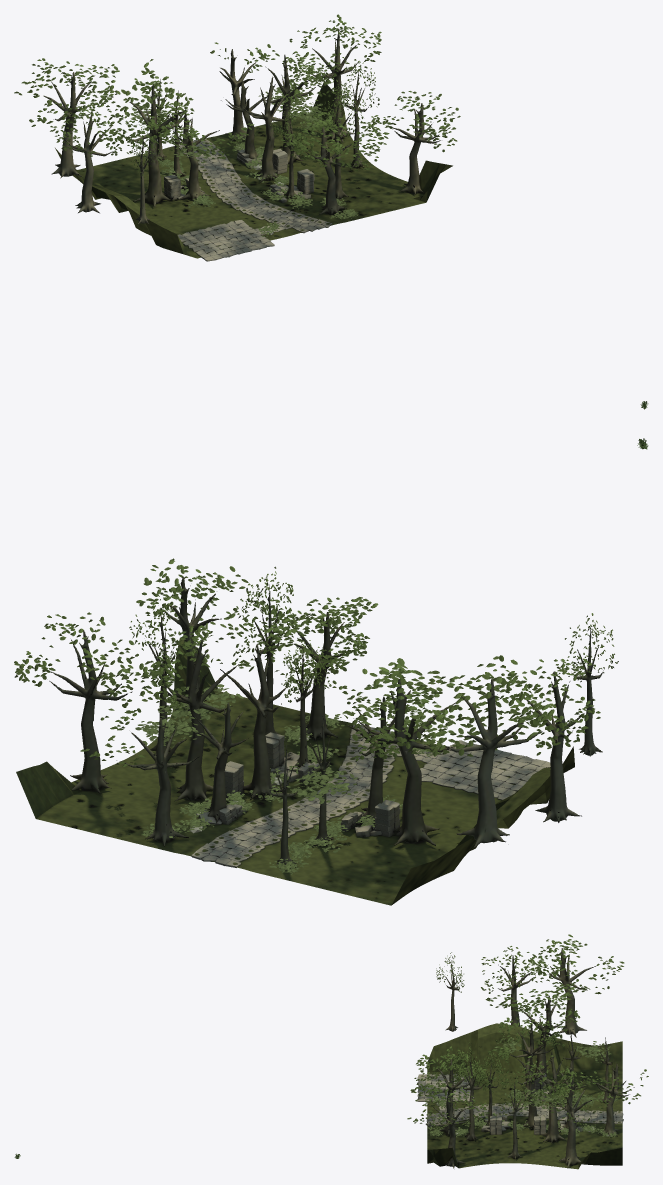
File: forest-canopy.glb
3 views of the same model, one above another, from view 1: azimuth 30°, elevation 25°; view 2: azimuth 150°, elevation 25°; view 3: azimuth 270°, elevation 25° (orthographic). The views are drawn at different scales.
Parts seen in each view (by area): view 1: ForestCanopy_Ground, ForestCanopy_Wood, ForestCanopy_Foliage, ForestCanopy_Stone, PD11_Foliage_forest-canopy; view 2: ForestCanopy_Ground, ForestCanopy_Wood, ForestCanopy_Foliage, ForestCanopy_Stone, PD11_Foliage_forest-canopy; view 3: ForestCanopy_Ground, ForestCanopy_Foliage, ForestCanopy_Wood, ForestCanopy_Stone, PD11_Foliage_forest-canopy.
Boxes of the visible parts, bbox=[...] form: ForestCanopy_Ground: bbox=[55, 83, 452, 258]; ForestCanopy_Wood: bbox=[43, 28, 440, 224]; ForestCanopy_Foliage: bbox=[14, 14, 460, 175]; ForestCanopy_Stone: bbox=[164, 138, 332, 261]; PD11_Foliage_forest-canopy: bbox=[129, 86, 358, 237]; ForestCanopy_Ground: bbox=[16, 637, 574, 905]; ForestCanopy_Wood: bbox=[49, 576, 604, 865]; ForestCanopy_Foliage: bbox=[14, 558, 618, 766]; ForestCanopy_Stone: bbox=[191, 724, 550, 867]; PD11_Foliage_forest-canopy: bbox=[135, 684, 443, 874]; ForestCanopy_Ground: bbox=[427, 1023, 622, 1169]; ForestCanopy_Foliage: bbox=[407, 934, 648, 1129]; ForestCanopy_Wood: bbox=[427, 948, 634, 1168]; ForestCanopy_Stone: bbox=[417, 1074, 623, 1134]; PD11_Foliage_forest-canopy: bbox=[428, 1037, 619, 1137].
Size of what is drawn, in the model's own units: 54.87 by 22.32 by 101.
10 materials, 3 textured.
